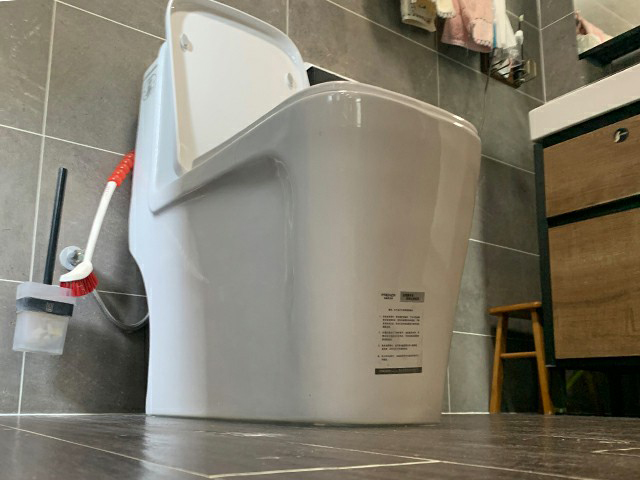cabinet: (527, 63, 640, 415)
closestool: (128, 1, 484, 427)
stool: (488, 299, 555, 418)
